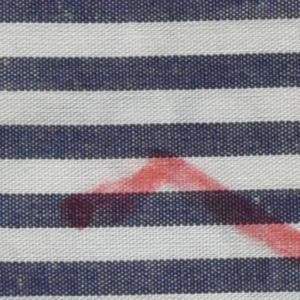Stain: (58, 145, 300, 273)
